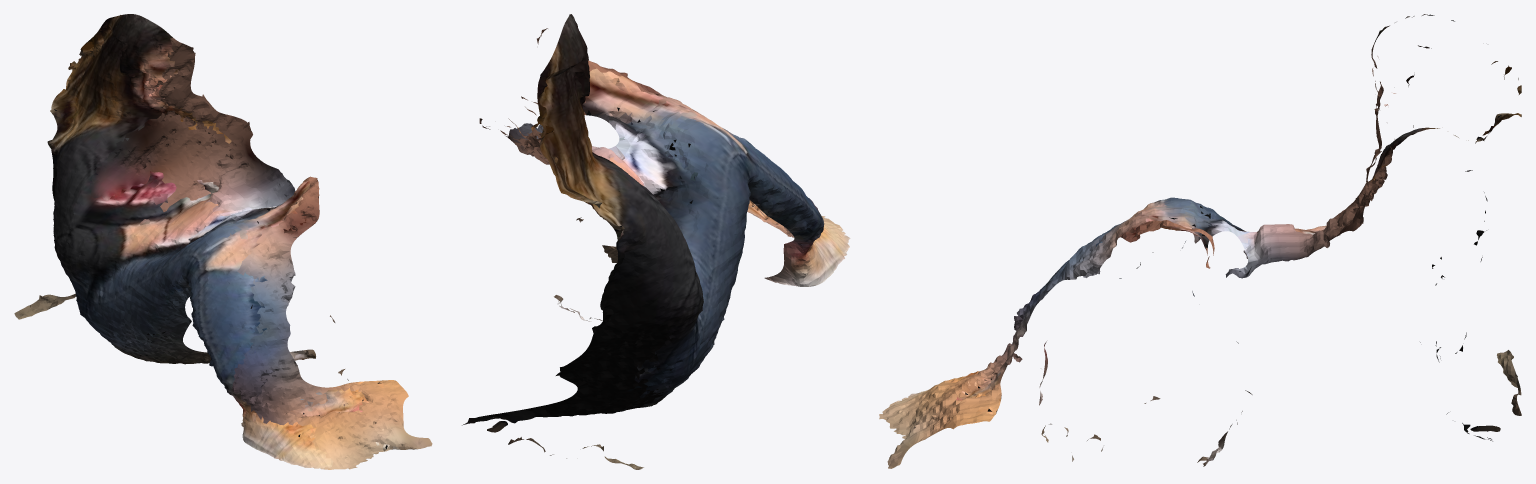
3 views of the same model, side by side, from view 1: azimuth 30°, elevation 25°; view 2: azimuth 150°, elevation 25°; view 3: azimuth 270°, elevation 25° (orthographic). The views are drawn at different scales.
Bounding box in the file's own units: 0.4365 × 0.6944 × 1.02.
1 material, 1 textured.
